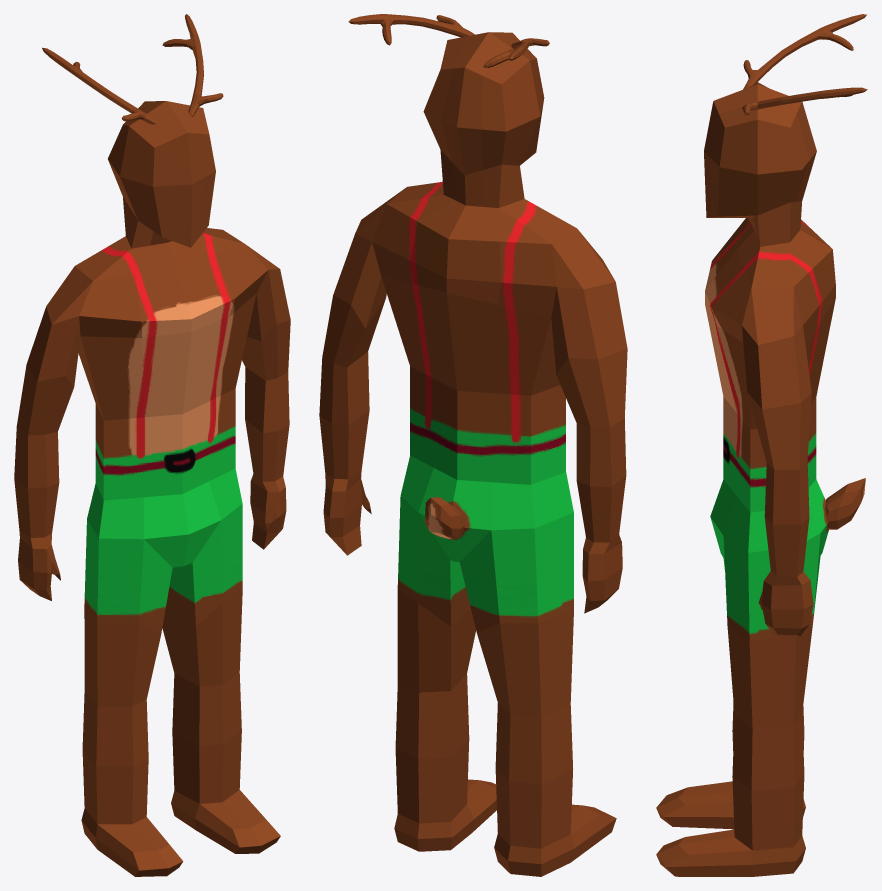
The model's file is HooMinRendeer.fbx.
3 renders of one model, left to right at view 1: azimuth 30°, elevation 25°; view 2: azimuth 150°, elevation 25°; view 3: azimuth 270°, elevation 25°, orthographic. The views are drawn at different scales.
Parts seen in each view (by area): view 1: node_id34, node_id13; view 2: node_id34, node_id13, node_id6; view 3: node_id34, node_id13, node_id6.
Boxes of the visible parts, x1,y1,x2,y2 form: node_id34: (14, 101, 290, 876); node_id13: (42, 14, 223, 124); node_id34: (319, 32, 627, 876); node_id13: (348, 14, 549, 67); node_id6: (424, 497, 464, 539); node_id34: (656, 82, 835, 876); node_id13: (742, 14, 867, 115); node_id6: (825, 478, 865, 529).
Size of the model in its own units: 0.1756 by 0.4879 by 0.1183.
3 materials, 3 textured.
